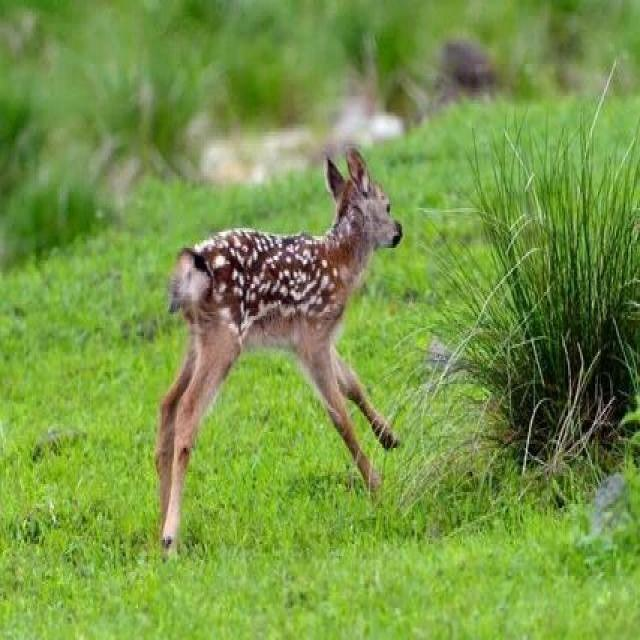deer: (118, 140, 410, 489)
